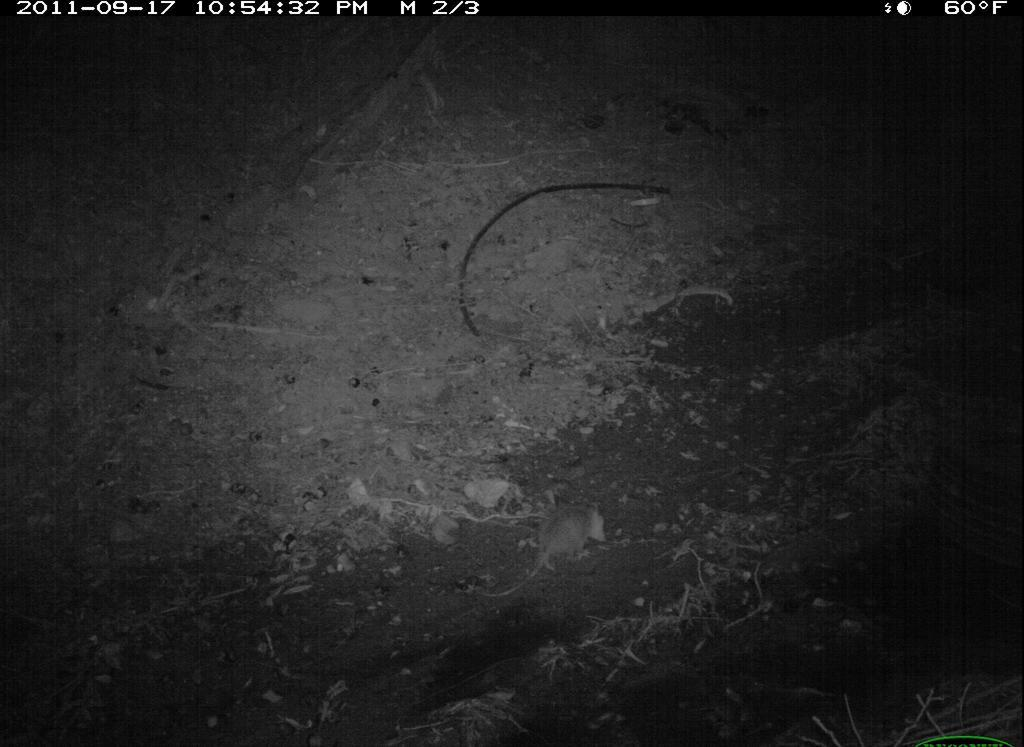opossum: (477, 493, 611, 605)
